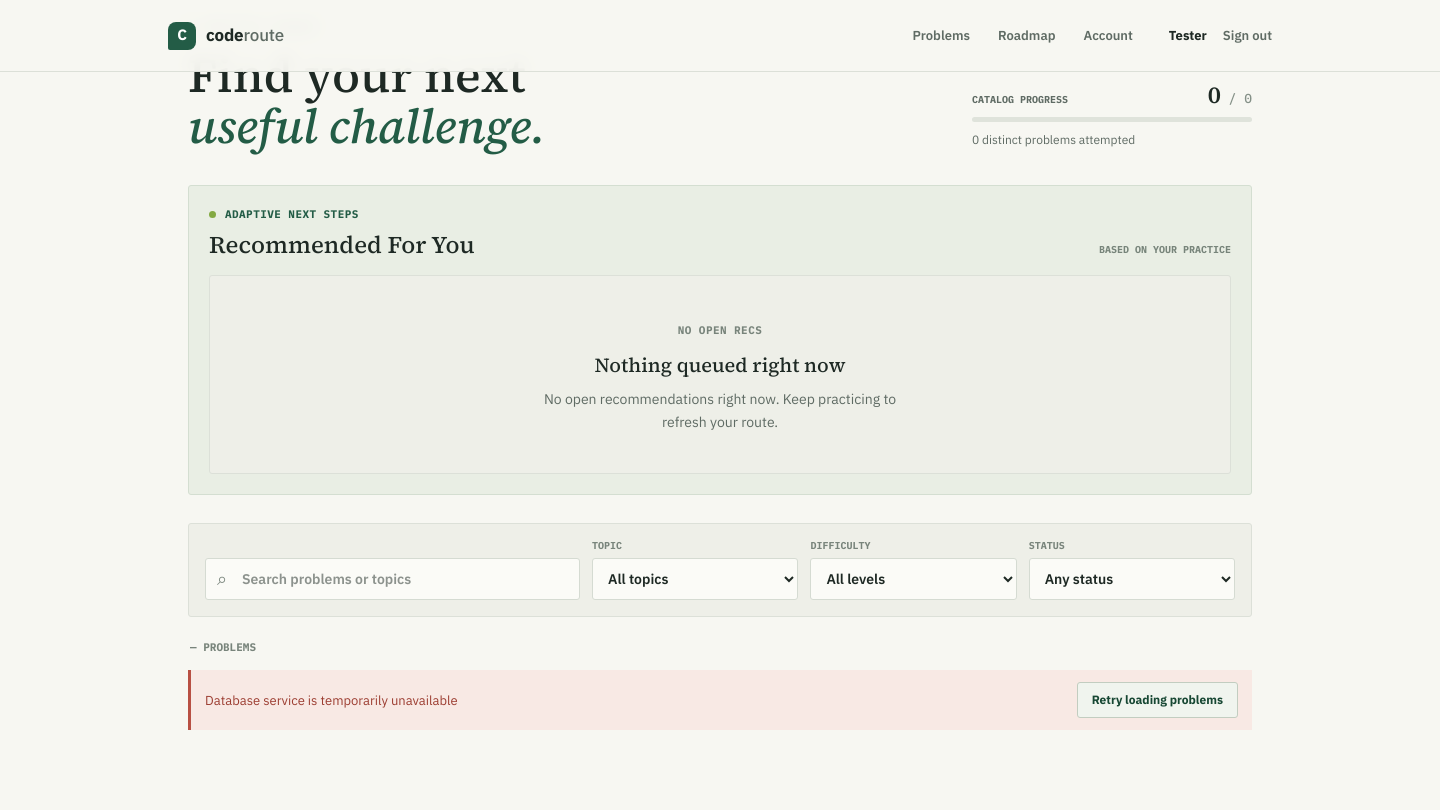
ProblemsPage Component › displays error state on API failure and retries successfully
(page scrolled)
expect the message "Database service is temporarily unavailable Retry loading problems" is shown: met, box x1=188 y1=670 x2=1252 y2=730
expect the text "Database service is temporarily unavailable" is shown: met, box x1=205 y1=691 x2=458 y2=710
Click the button "Retry loading problems" at (1157, 700), box x1=1077 y1=682 x2=1238 y2=718
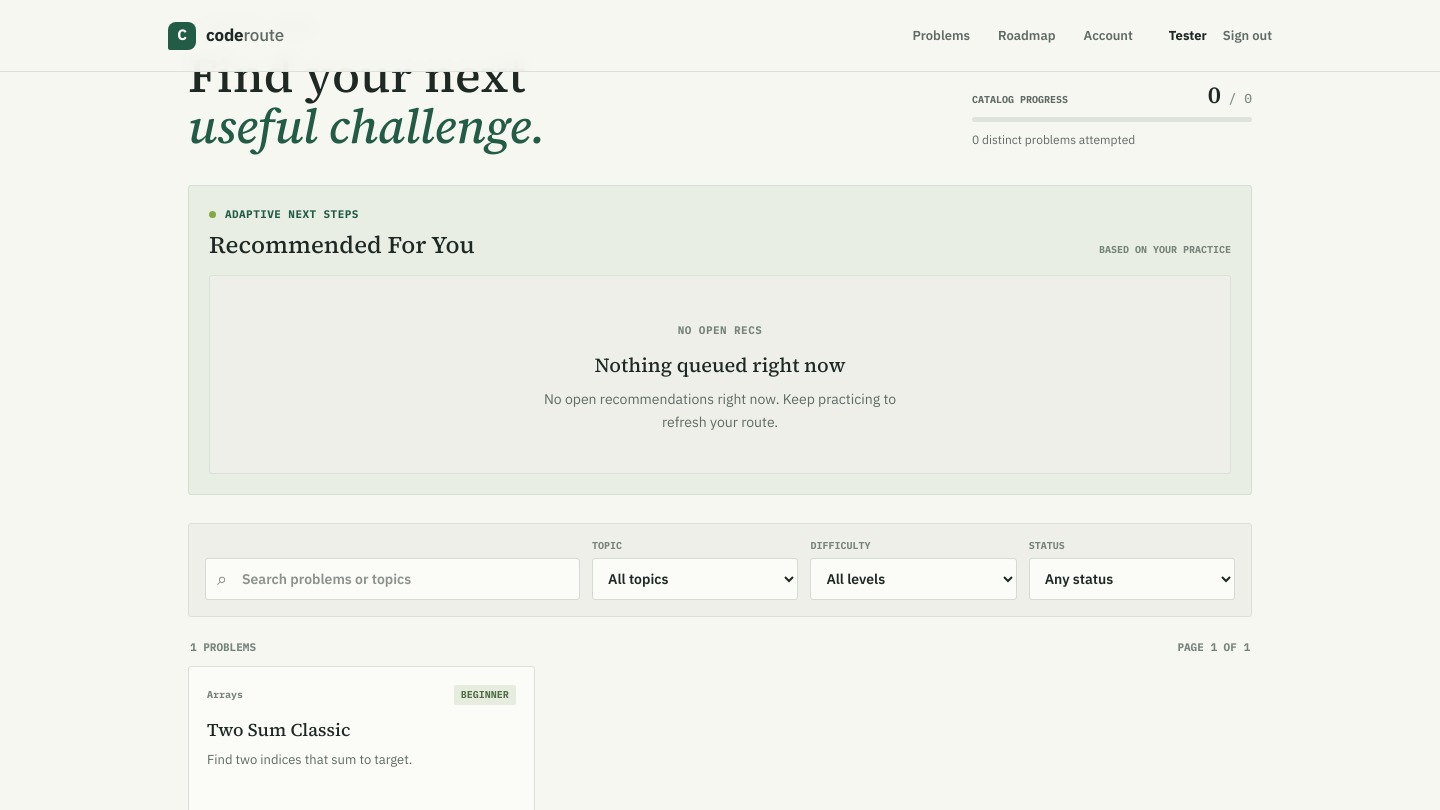
expect the heading "Two Sum Classic" is shown: met, box x1=207 y1=717 x2=350 y2=742
